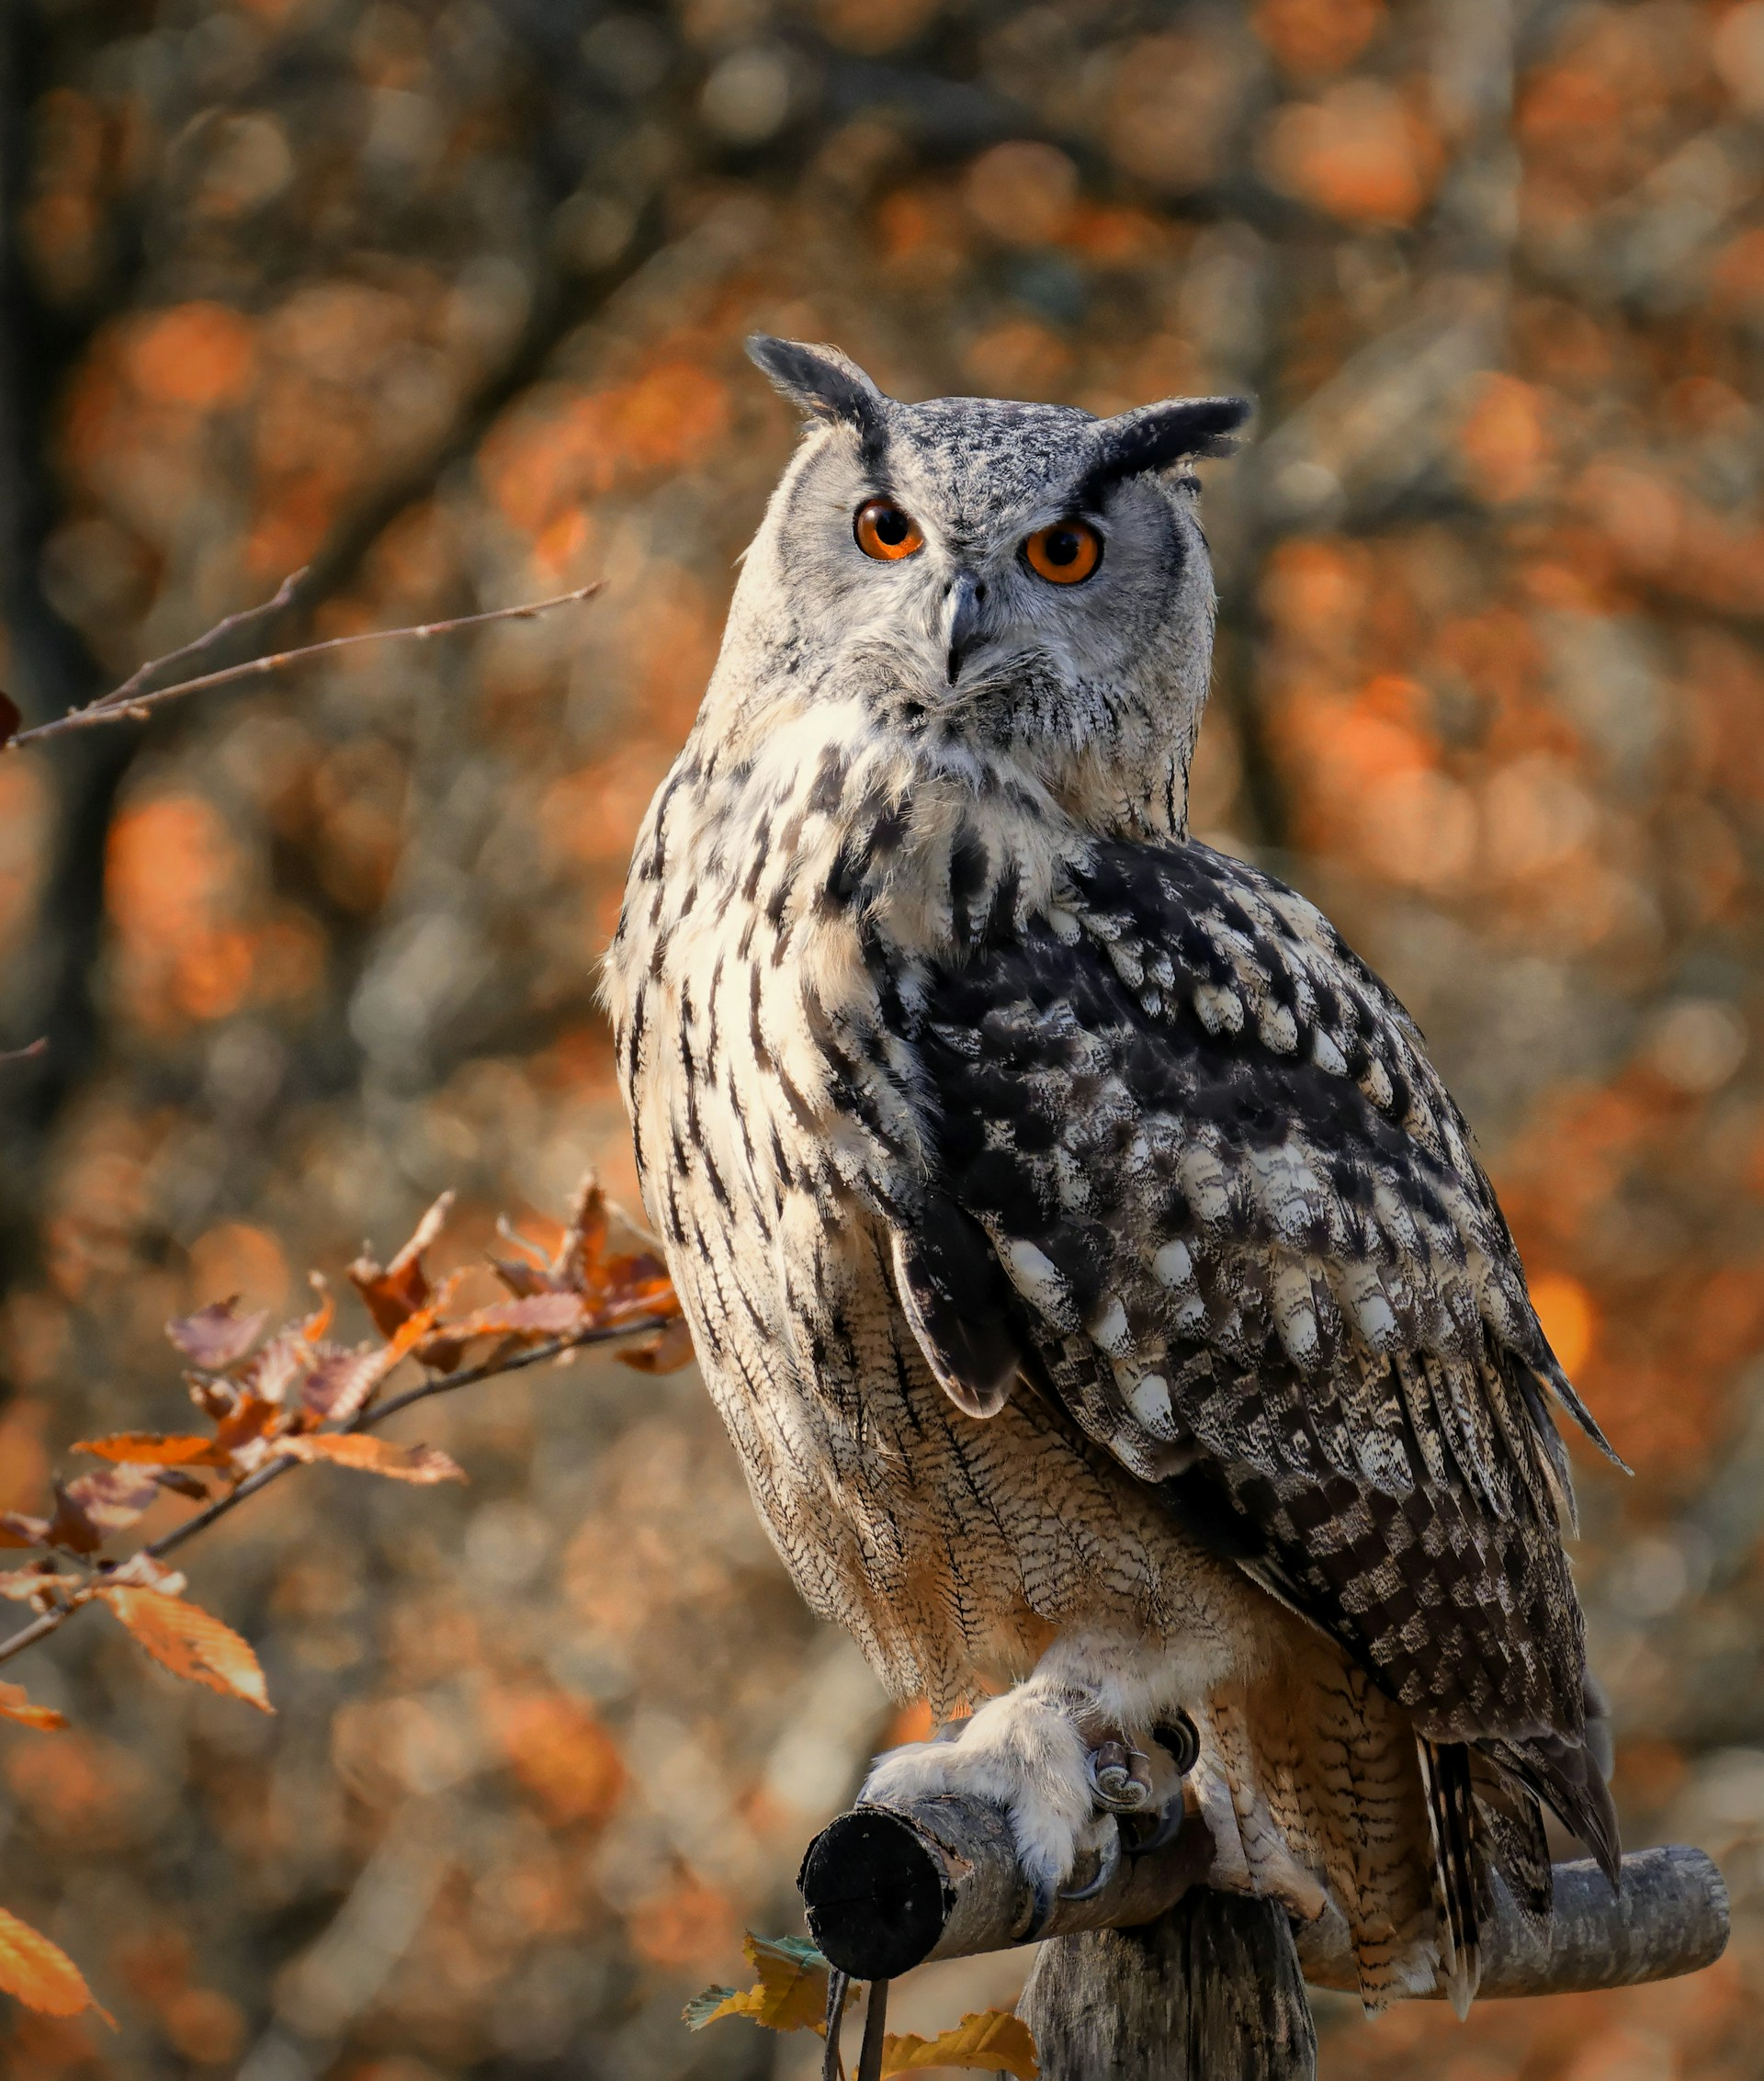owl: (584, 327, 1645, 2037)
